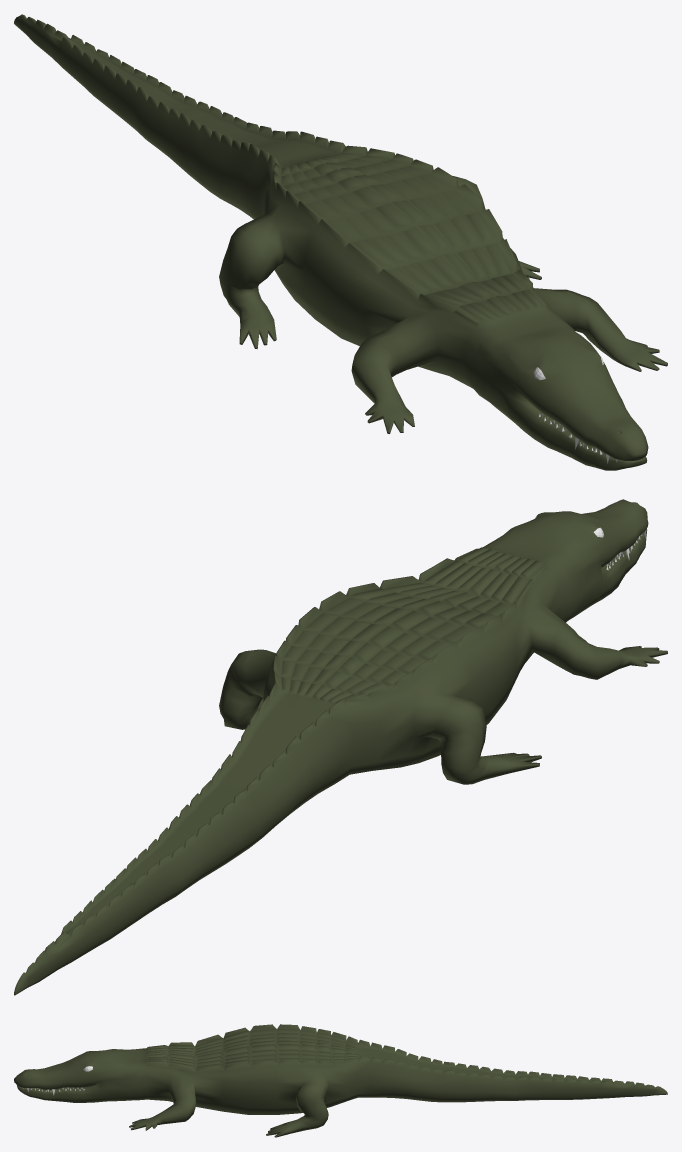
The model's file is Crocodile.fbx.
3 views of the same model, one above another, from view 1: azimuth 30°, elevation 25°; view 2: azimuth 150°, elevation 25°; view 3: azimuth 270°, elevation 25° (orthographic). The views are drawn at different scales.
Parts seen in each view (by area): view 1: Body; view 2: Body; view 3: Body.
Boxes of the visible parts, <box> form: Body: <box>14,14,667,470</box>; Body: <box>14,499,667,995</box>; Body: <box>14,1024,667,1137</box>.
Size of the model in its own units: 150 by 51.87 by 541.
